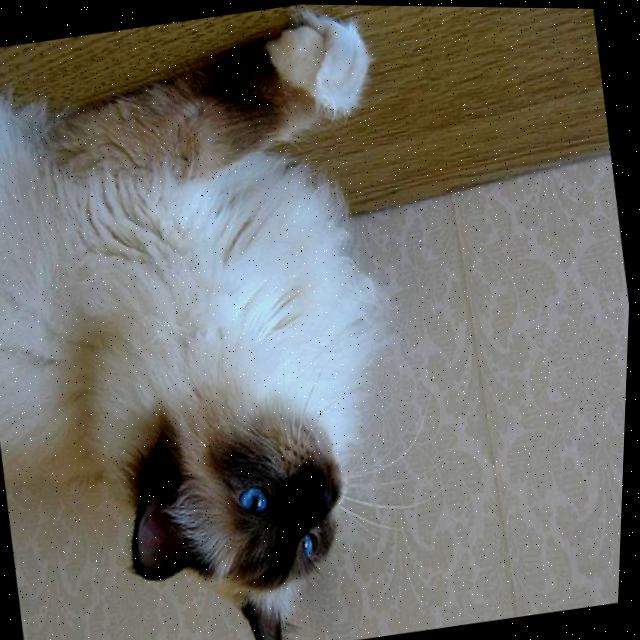Birman: (0, 0, 463, 640)
